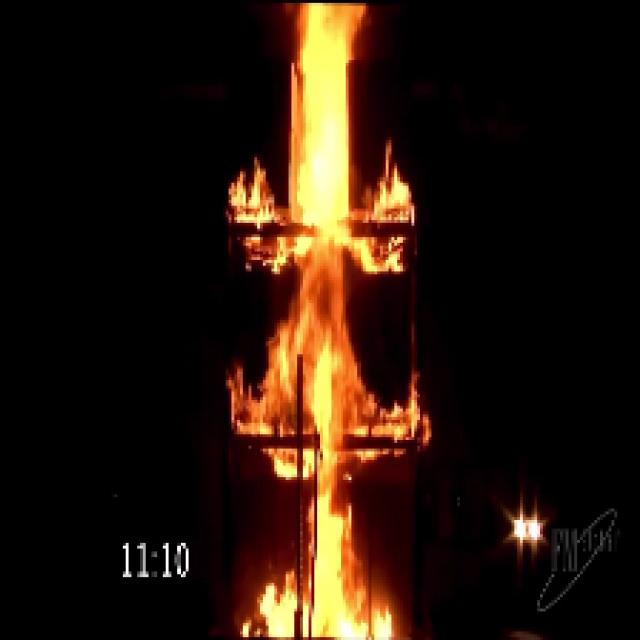fire: (265, 11, 385, 634)
